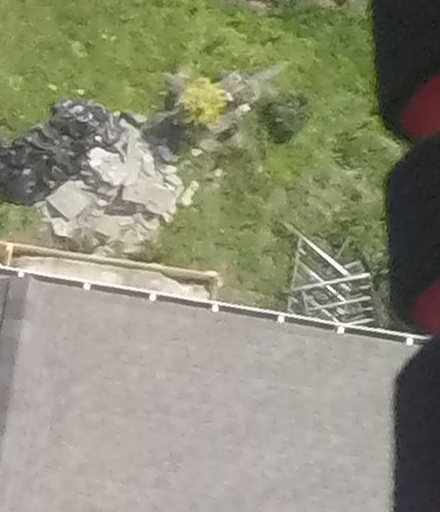debris: (2, 74, 222, 280)
trash: (3, 84, 202, 263)
